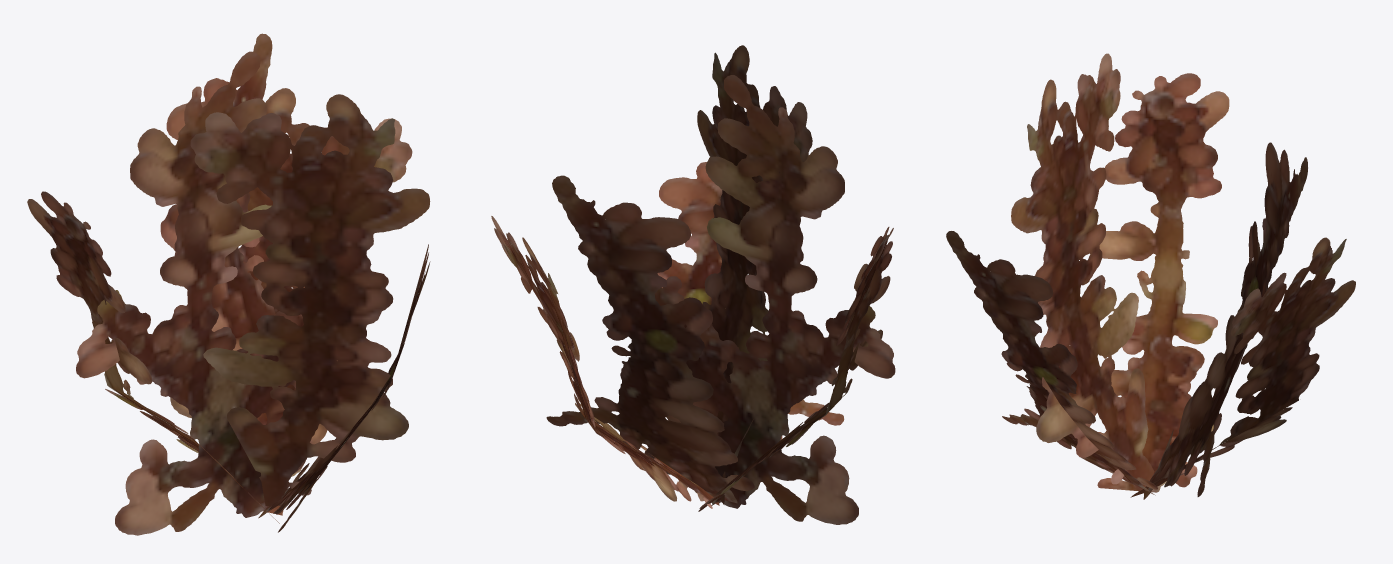
Rendered from seaweed_3_9.FBX.
The picture shows the model from 3 angles, left to right: view 1: azimuth 30°, elevation 25°; view 2: azimuth 150°, elevation 25°; view 3: azimuth 270°, elevation 25°; orthographic projection. The views are drawn at different scales.
Parts seen in each view (by area): view 1: seaweed_3_09; view 2: seaweed_3_09; view 3: seaweed_3_09.
Part boxes in pixels (box(x1,y1,x2,y2)): seaweed_3_09: box(27, 33, 430, 535); seaweed_3_09: box(491, 45, 895, 524); seaweed_3_09: box(946, 53, 1355, 499).
Bounding box in the file's own units: 16.78 × 18.56 × 16.47.
Materials: 1 (1 with a texture image).
